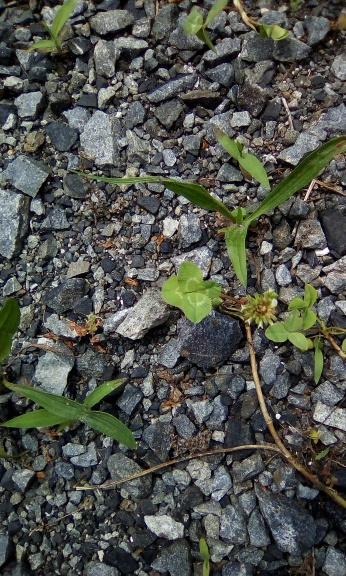4leaf: (161, 261, 221, 324)
